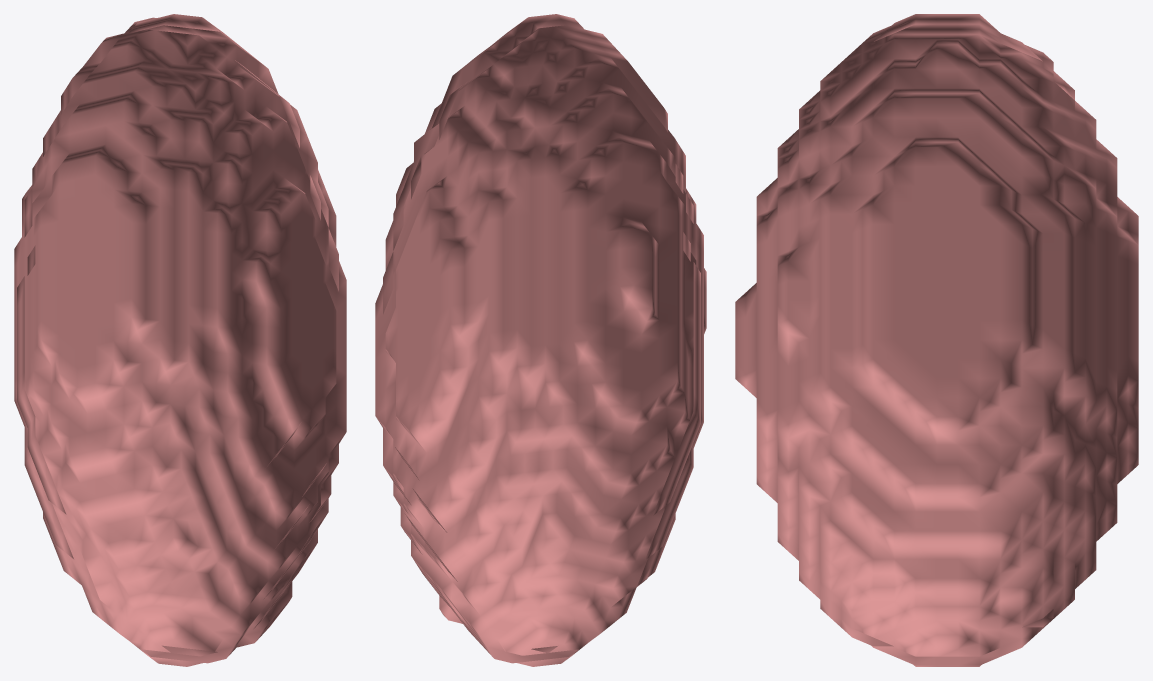
Rendered from 199502_occ.glb.
The picture shows the model from 3 angles, left to right: view 1: azimuth 30°, elevation 25°; view 2: azimuth 150°, elevation 25°; view 3: azimuth 270°, elevation 25°; orthographic projection. The views are drawn at different scales.
Visible parts, largest first — view 1: world; view 2: world; view 3: world.
Boxes of the visible parts, x1,y1,x2,y2 form: world: (14, 14, 346, 666); world: (375, 14, 706, 666); world: (735, 14, 1138, 666).
Size of the model in its own units: 1.4 by 3.3 by 1.9.
